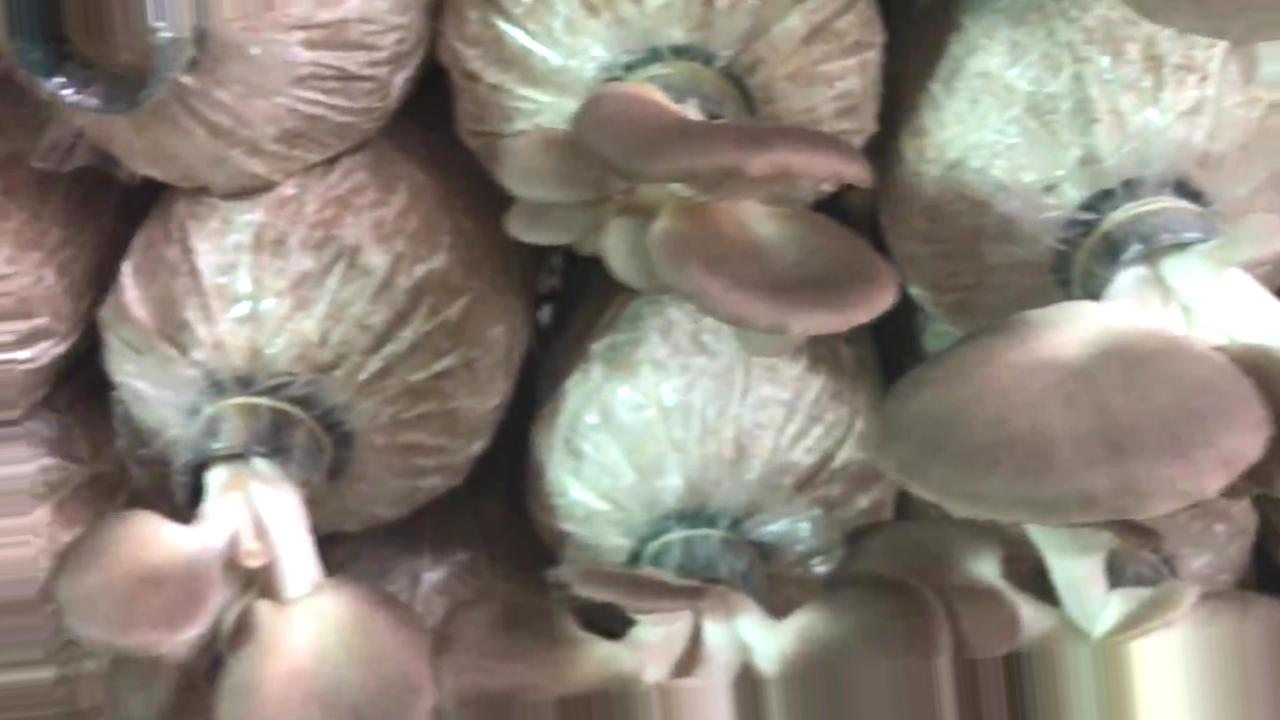nam: (873, 184, 1275, 527), (63, 393, 432, 720), (498, 59, 900, 343), (428, 538, 959, 716)
